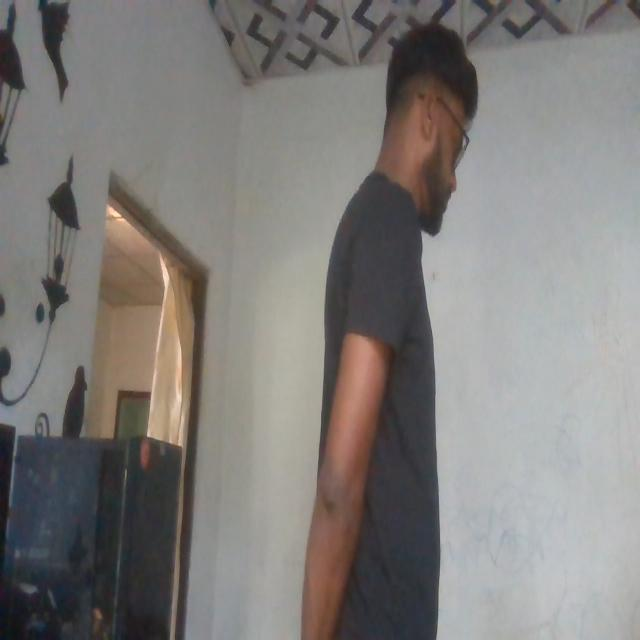Person: (298, 9, 490, 620)
